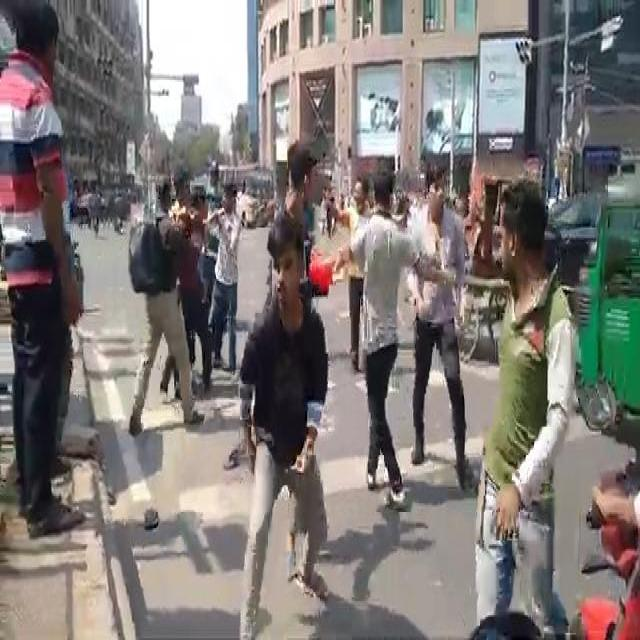fight: (319, 140, 475, 518), (0, 0, 94, 581), (482, 184, 580, 621), (118, 131, 242, 457)
